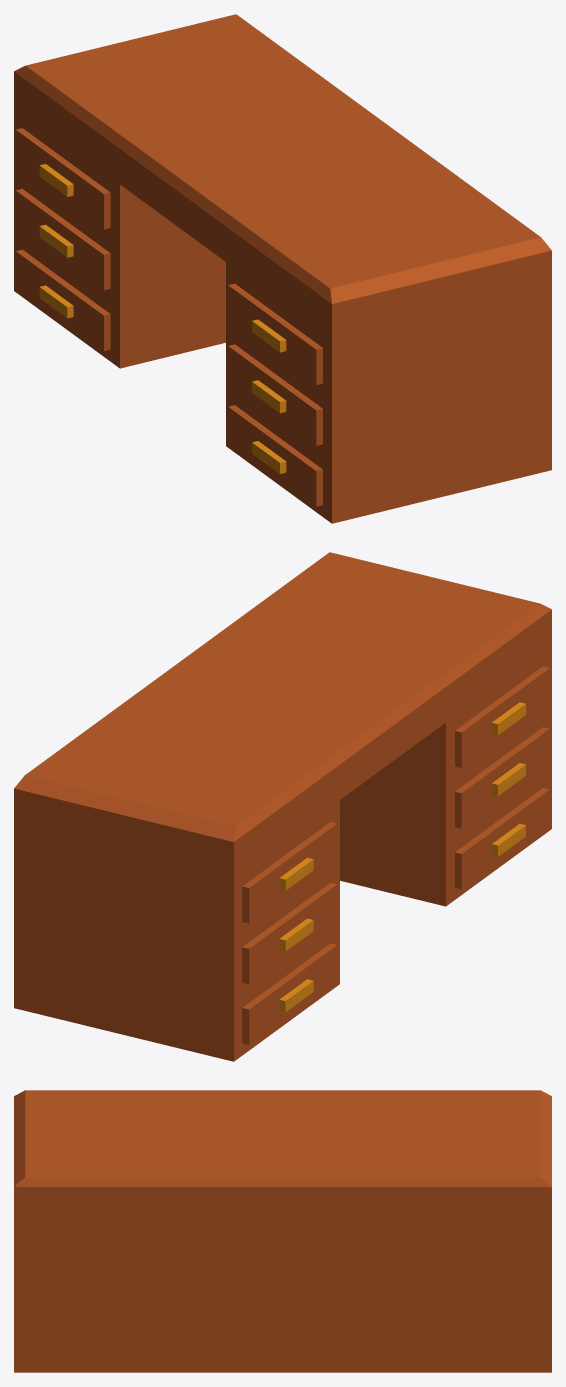
File: alexc_office_desk.fbx
The picture shows the model from 3 angles, top to bottom: view 1: azimuth 30°, elevation 25°; view 2: azimuth 150°, elevation 25°; view 3: azimuth 270°, elevation 25°; orthographic projection. The views are drawn at different scales.
Parts seen in each view (by area): view 1: desktable; view 2: desktable; view 3: desktable.
Part boxes in pixels (x1,y1,x2,y2): desktable: [14, 14, 551, 523]; desktable: [14, 552, 551, 1061]; desktable: [14, 1090, 551, 1372].
Size of the model in its own units: 372 by 879 by 349.
